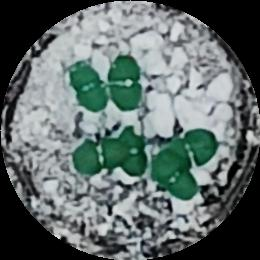Basil: (146, 150, 200, 201), (158, 126, 222, 167), (72, 138, 133, 179), (111, 132, 154, 181), (108, 51, 142, 111), (67, 65, 109, 109)
